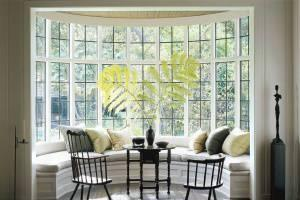window: (29, 12, 253, 145)
